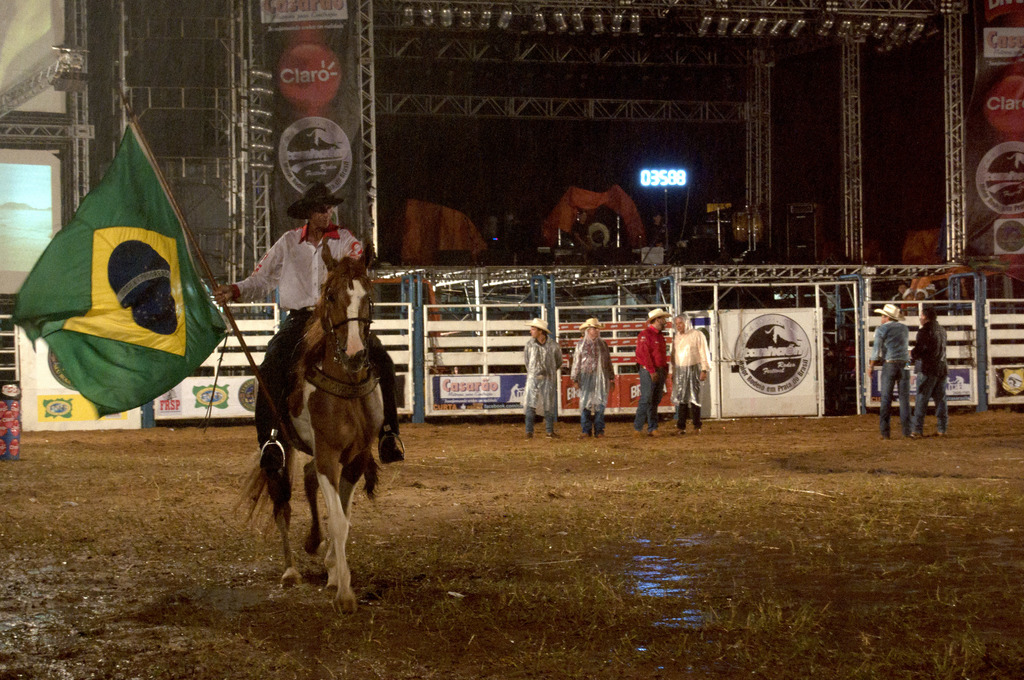horse: (227, 241, 405, 616)
